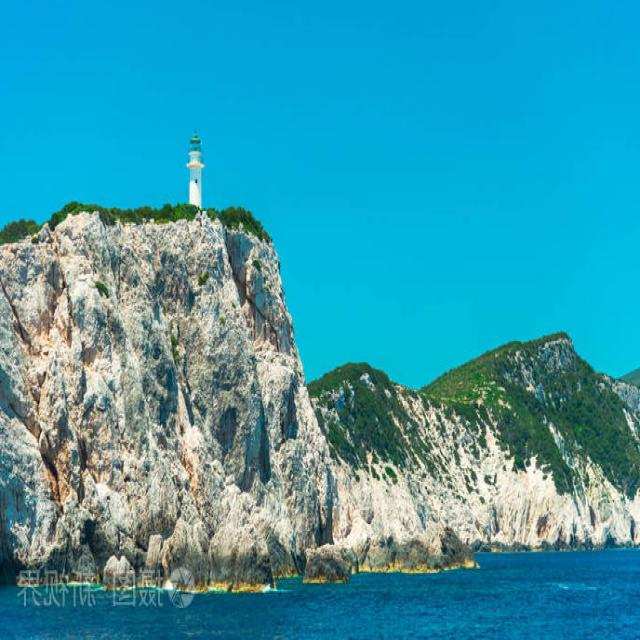reef: (115, 417, 477, 606)
